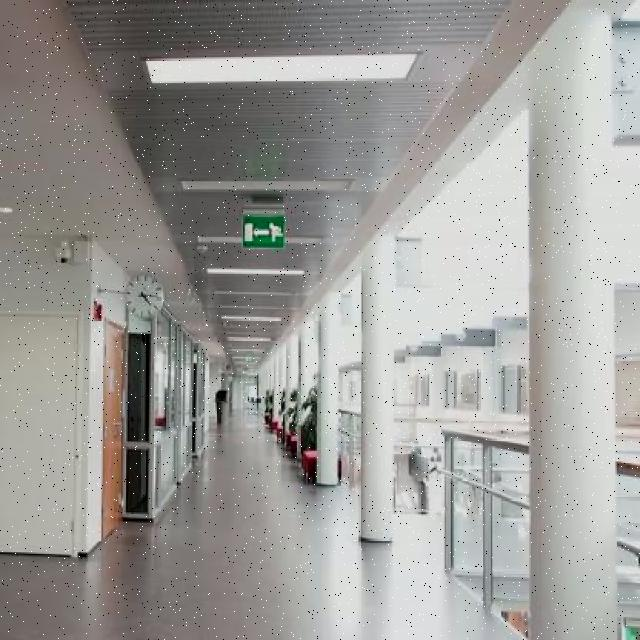emergency_exit: (240, 211, 287, 250)
